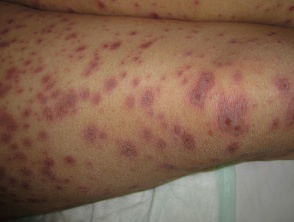SJS-TEN: (0, 0, 293, 214)
